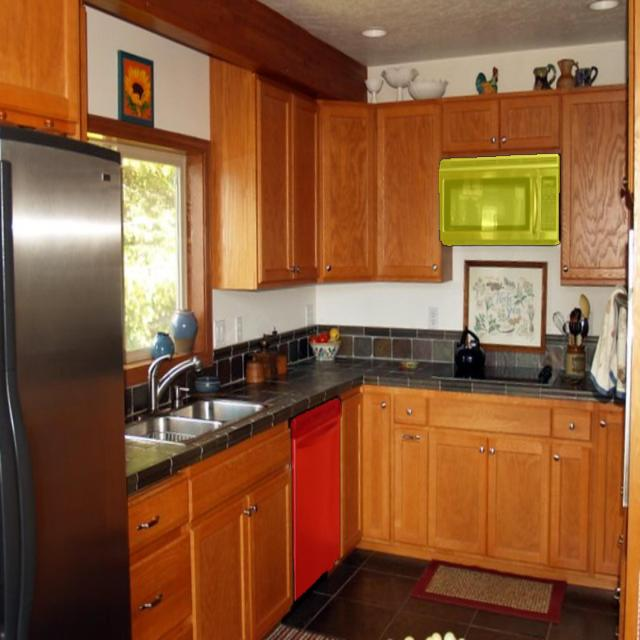dishwasher: (290, 396, 340, 600)
